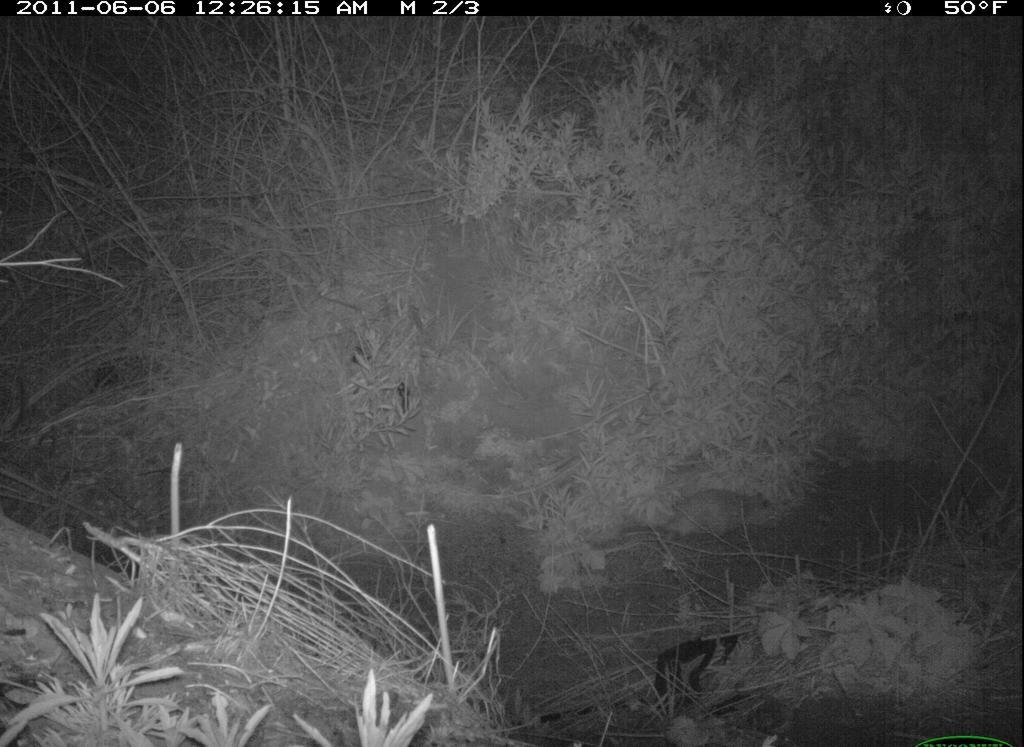opossum: (615, 482, 786, 550)
